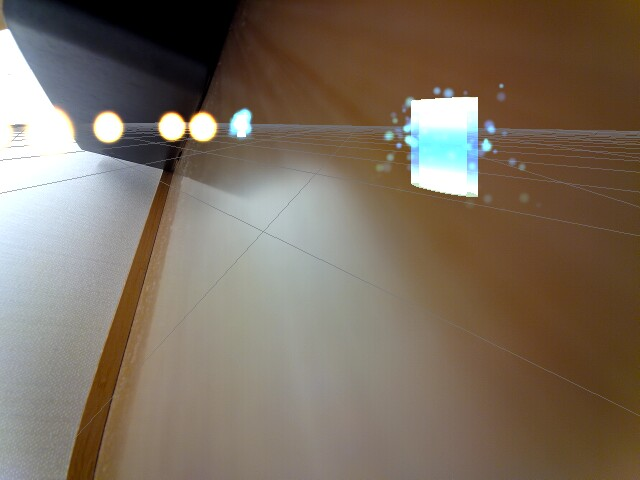firebig: (19, 104, 77, 167)
